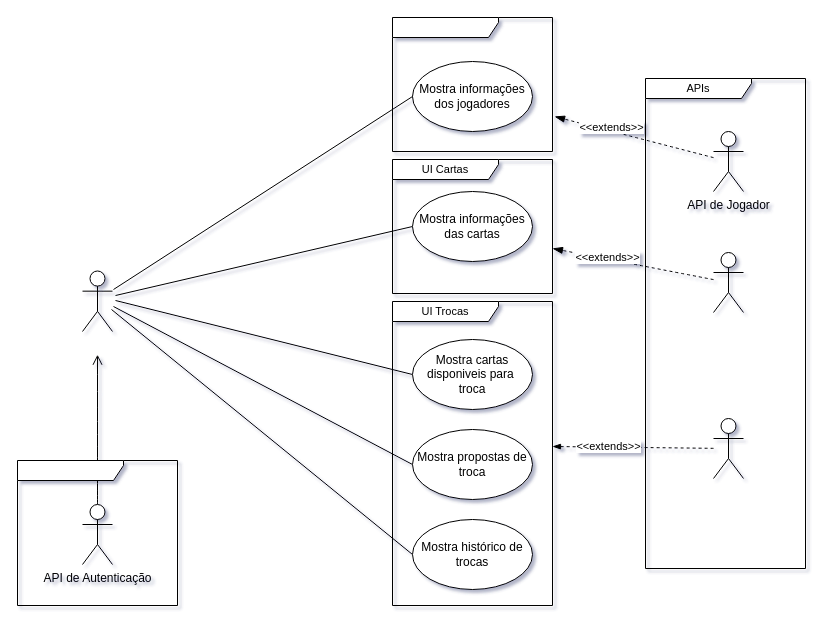
The diagram is 829 pixels wide and 629 high, and some of its shapes have lost their labels. The shapes that lost their labels are listed below. From the top down, each one's centre as x and y in pixels, then its label:
At [472,84]: "UI Jogadores".
At [97,301]: "Jogador".
At [728,282]: "PokeAPI".
At [728,448]: "API de Troca".
At [97,533]: "Auth API".
